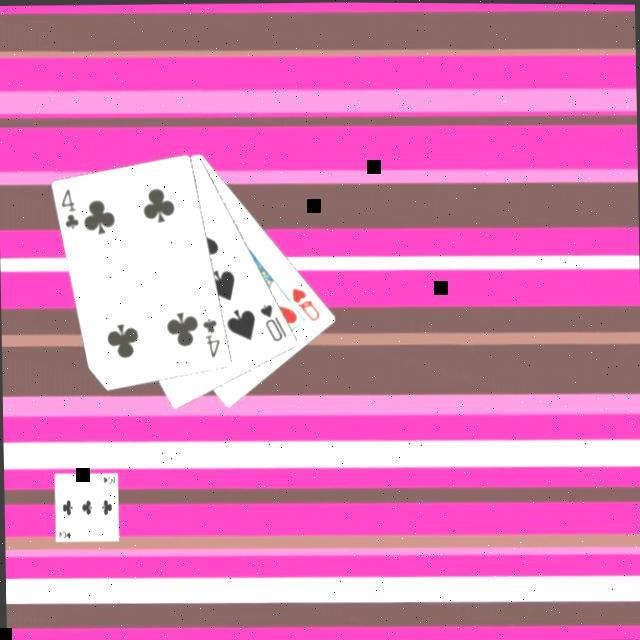10S: (254, 301, 288, 346)
4C: (54, 188, 80, 235), (196, 316, 222, 362)
QH: (286, 285, 321, 326)
